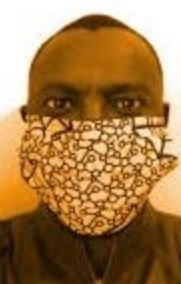with_facemask: (27, 113, 167, 236)
